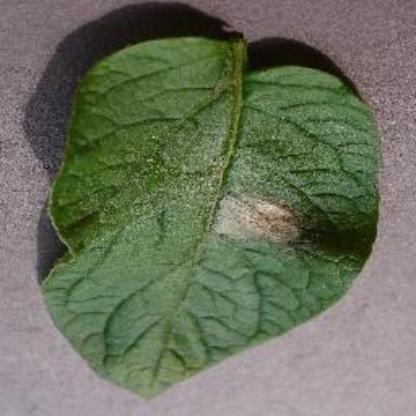Late-Blight: (35, 20, 391, 404)
